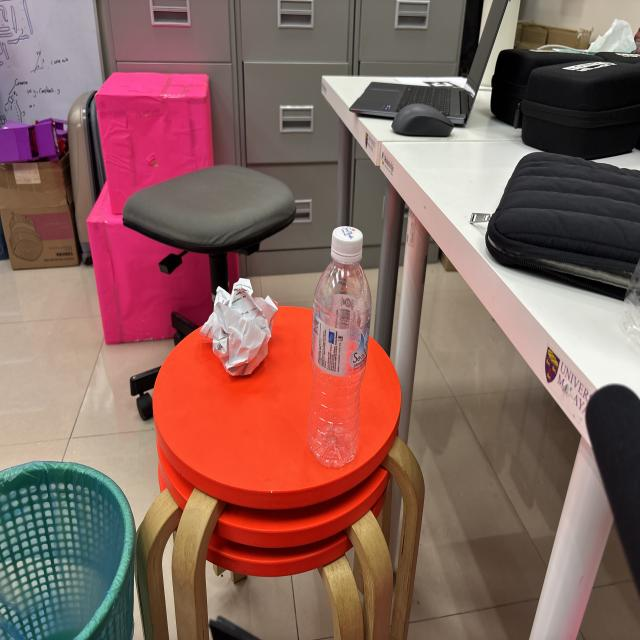crumpled_paper: (196, 268, 282, 387)
plastic_bottle: (302, 219, 376, 474)
